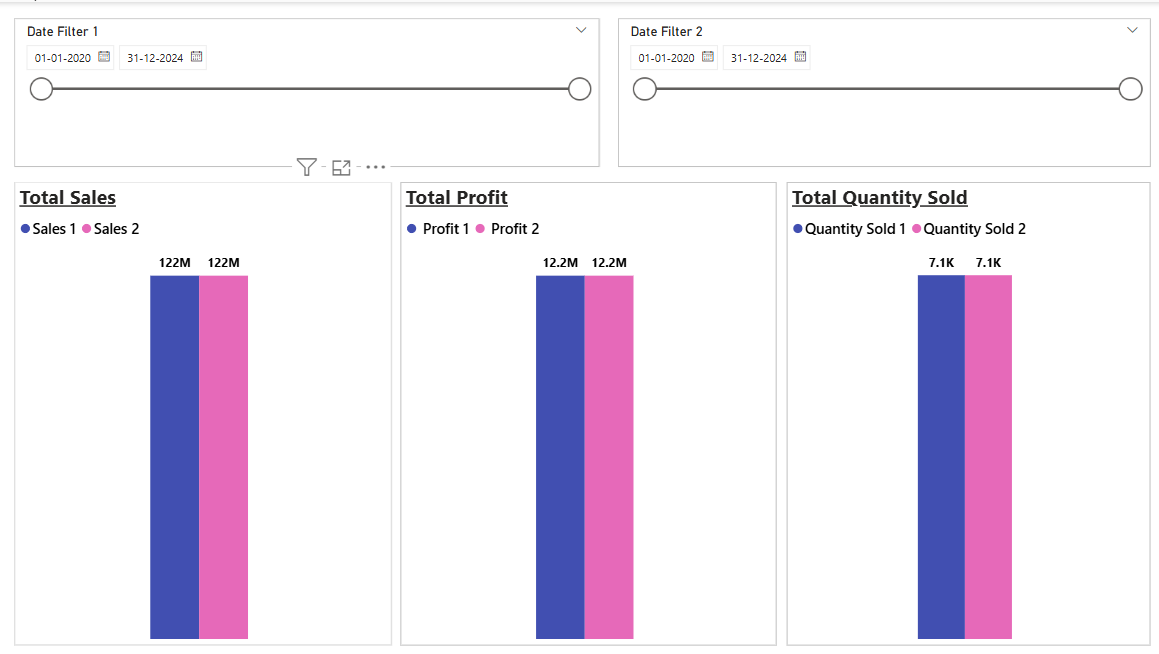

What the dashboard file says about the page in this screenshot:
{"tool":"powerbi","page":{"name":"Sales/Profit/Quantity Comparision","canvas":[1280,720],"ordinal":2},"visuals":[{"type":"slicer","fields":{"Values":["Date Table 1.Date"]},"box":[17.8,17.8,642.2,163.3],"z":0},{"type":"slicer","fields":{"Values":["Date Table 2.Date"]},"box":[680.6,17.8,584.6,163.3],"z":1000},{"type":"clusteredColumnChart","title":"Total Sales","fields":{"Y":["Sum(Fact Table.Net Sales)","Date Table 1.Sum of Net Sales"]},"box":[17.8,197.6,414.4,509.1],"z":2000},{"type":"clusteredColumnChart","title":"Total Profit ","fields":{"Y":["Sum(Fact Table.Profit )","Measures Table.Total Profit"]},"box":[441.9,197.6,413,509.1],"z":3000},{"type":"clusteredColumnChart","title":"Total Quantity Sold","fields":{"Y":["Sum(Fact Table.Units Sold)","Measures Table.Total Quantity Sold"]},"box":[865.9,197.6,399.3,509.1],"z":4000}]}

Visuals, with their boxes in screenshot pixels (x1, y1, x2, y2), scaled from the page's 1280x720 canvas onto the 1159x654 screenshot:
slicer - Date Table 1.Date: crop(16, 16, 598, 164)
slicer - Date Table 2.Date: crop(616, 16, 1146, 164)
"Total Sales" clusteredColumnChart: crop(16, 179, 391, 642)
"Total Profit " clusteredColumnChart: crop(400, 179, 774, 642)
"Total Quantity Sold" clusteredColumnChart: crop(784, 179, 1146, 642)
